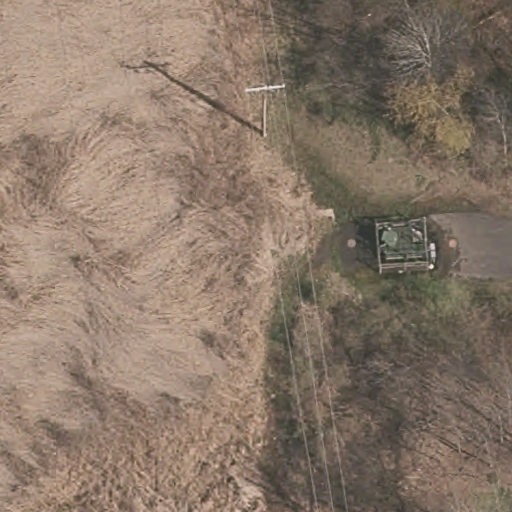DT: (240, 76, 289, 143)
